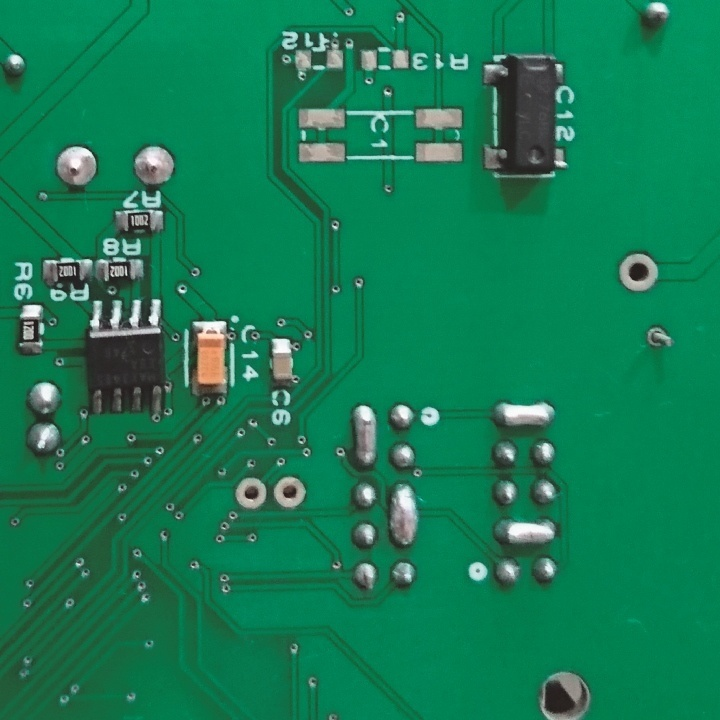F: (128, 141, 179, 192), (53, 143, 102, 193), (616, 248, 661, 295), (272, 476, 309, 512), (232, 476, 269, 509), (640, 321, 676, 354)
P: (490, 398, 564, 432), (387, 477, 420, 552), (490, 515, 559, 550), (350, 403, 379, 469)
